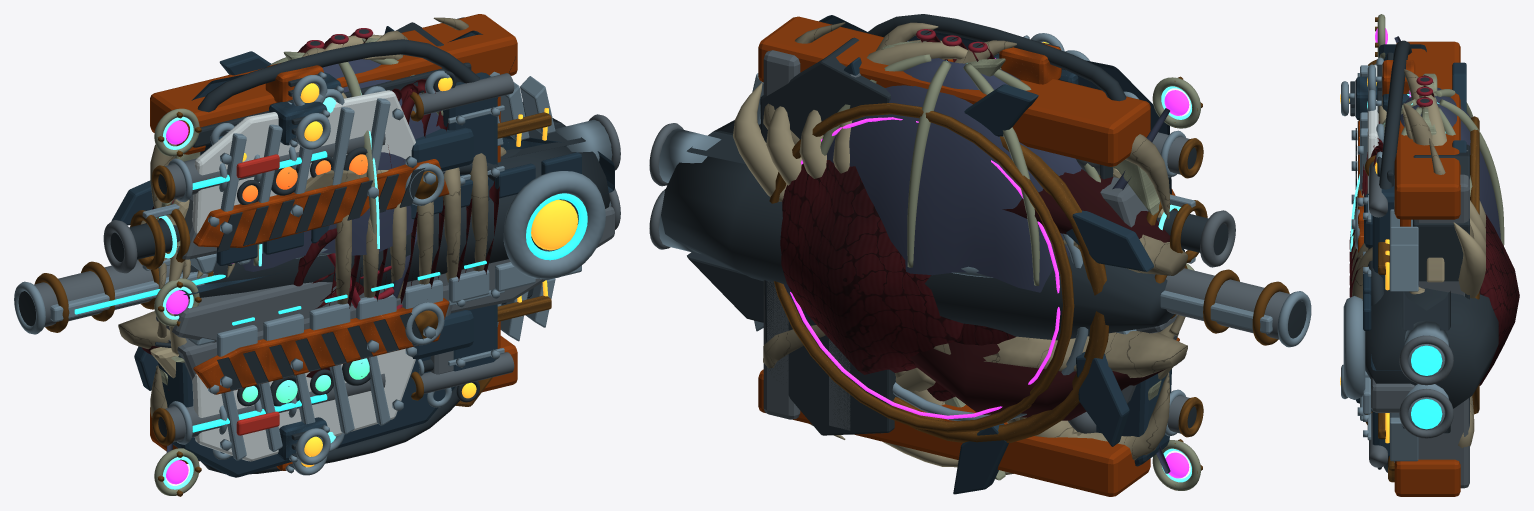
The model's file is bosses.glb.
The picture shows the model from 3 angles, left to right: view 1: azimuth 30°, elevation 25°; view 2: azimuth 150°, elevation 25°; view 3: azimuth 270°, elevation 25°; orthographic projection. The views are drawn at different scales.
Parts seen in each view (by area): view 1: boss_colossus__body__surface, boss_judgement__body__surface, boss_doorkeeper__shell_bottom__surface, boss_doorkeeper__shell_top__surface, boss_colossus__reactor__surface, boss_judgement__shell_bottom__surface, boss_judgement__shell_top__surface, boss_gorgon__body__surface, boss_colossus__main_cannon__surface, boss_mnemosyne__body__surface, boss_doorkeeper__body__surface, boss_arbiter__main_cannon__surface (+22 smaller); view 2: boss_judgement__body__surface, boss_mnemosyne__body__surface, boss_gorgon__body__surface, boss_colossus__body__surface, boss_origin__crown__surface, boss_arbiter__rotor__surface, boss_doorkeeper__body__surface, boss_gorgon__jaw_bottom__surface, boss_colossus__main_cannon__surface, boss_ouroboros__jaw_bottom__surface, boss_gorgon__jaw_top__surface, boss_origin__shell_top__surface (+15 smaller); view 3: boss_judgement__body__surface, boss_colossus__body__surface, boss_colossus__reactor__surface, boss_doorkeeper__body__surface, boss_gorgon__body__surface, boss_mnemosyne__body__surface, boss_colossus__shell_top__surface, boss_origin__crown__surface, boss_doorkeeper__shell_top__surface, boss_colossus__shell_bottom__surface, boss_origin__shell_top__surface, boss_doorkeeper__part_top__surface (+12 smaller).
Boxes of the visible parts, x1,y1,x2,y2 form: boss_colossus__body__surface: (156,136,614,356); boss_judgement__body__surface: (150,14,517,474); boss_doorkeeper__shell_bottom__surface: (158,302,455,477); boss_doorkeeper__shell_top__surface: (191,74,444,234); boss_colossus__reactor__surface: (503,114,620,278); boss_judgement__shell_bottom__surface: (168,285,452,394); boss_judgement__shell_top__surface: (170,159,449,273); boss_gorgon__body__surface: (329,153,499,308); boss_colossus__main_cannon__surface: (14,256,225,334); boss_mnemosyne__body__surface: (227,57,448,271); boss_doorkeeper__body__surface: (395,22,504,371); boss_arbiter__main_cannon__surface: (103,204,190,273); boss_judgement__body__surface: (758,14,1150,496); boss_mnemosyne__body__surface: (820,54,1100,292); boss_gorgon__body__surface: (763,103,963,374); boss_colossus__body__surface: (661,156,1184,340); boss_origin__crown__surface: (733,82,1074,432); boss_arbiter__rotor__surface: (844,57,1153,494); boss_doorkeeper__body__surface: (760,37,897,435); boss_gorgon__jaw_bottom__surface: (883,314,1177,467); boss_colossus__main_cannon__surface: (1154,265,1311,347); boss_ouroboros__jaw_bottom__surface: (933,315,1187,377); boss_gorgon__jaw_top__surface: (866,42,1170,242); boss_origin__shell_top__surface: (876,22,1169,218); boss_judgement__body__surface: (1376,40,1469,496); boss_colossus__body__surface: (1362,273,1498,414); boss_colossus__reactor__surface: (1343,296,1453,438); boss_doorkeeper__body__surface: (1363,144,1469,458); boss_gorgon__body__surface: (1349,214,1519,448); boss_mnemosyne__body__surface: (1350,87,1504,251); boss_colossus__shell_top__surface: (1378,209,1450,330); boss_origin__crown__surface: (1453,116,1486,414); boss_doorkeeper__shell_top__surface: (1355,44,1426,249); boss_colossus__shell_bottom__surface: (1378,413,1450,461); boss_origin__shell_top__surface: (1403,69,1437,294); boss_doorkeeper__part_top__surface: (1340,76,1382,120).
Bounding box in the file's own units: 10.16 × 6.79 × 2.99.
Materials: 21 (8 with a texture image).
